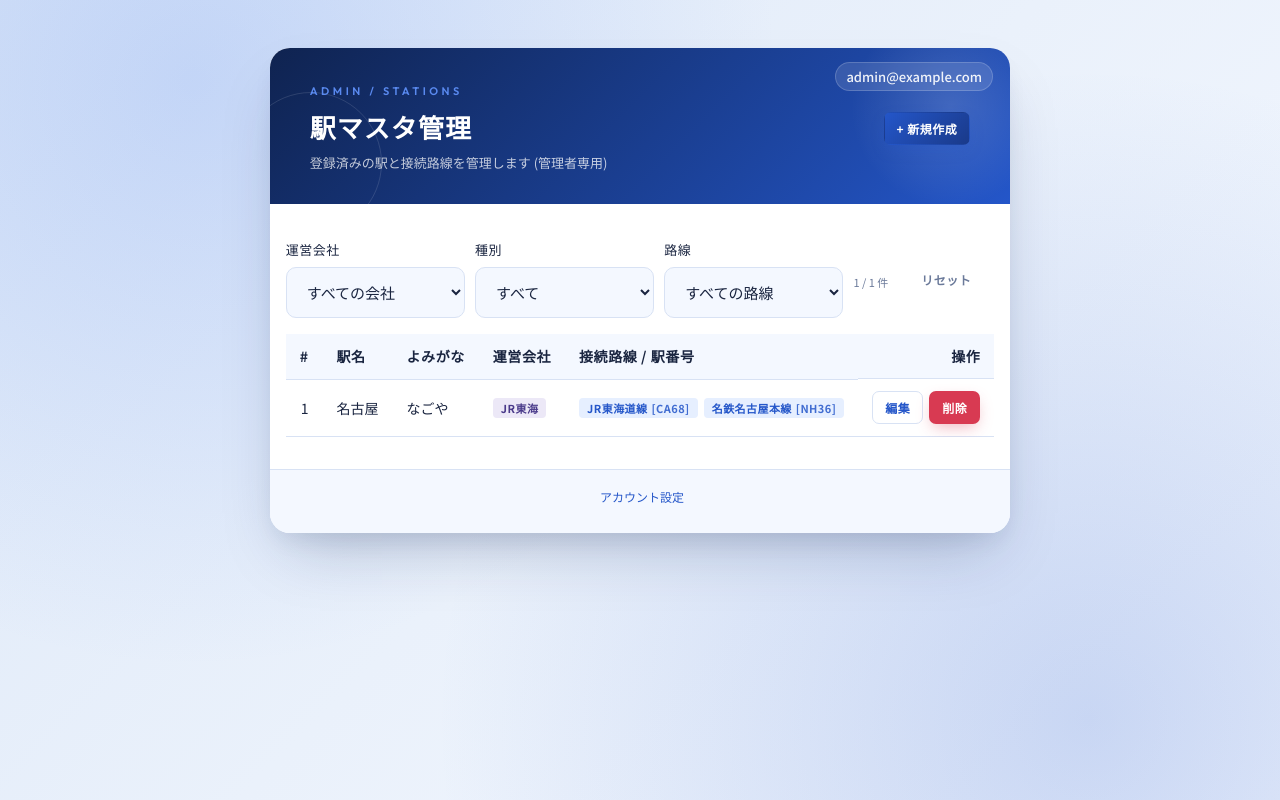
Test case: AdminStations › 削除: confirm OK + 204 でリスト reload + 成功バナー
Expected: the text "名古屋" is shown, [323,379,393,436]
Click the button with aria-label "駅「名古屋」を削除": (955, 408) [929,391,980,424]
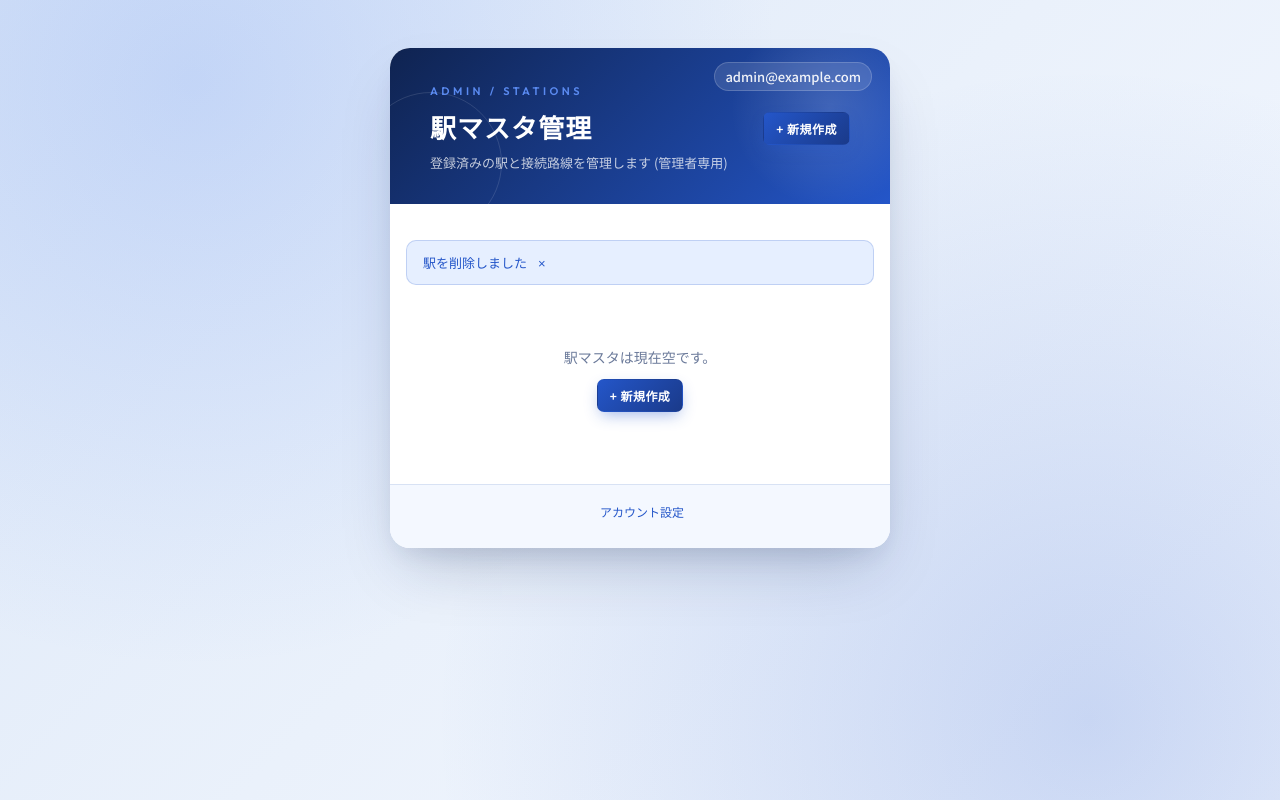
Now the text "駅を削除しました" is shown, box [423,253,527,272]
